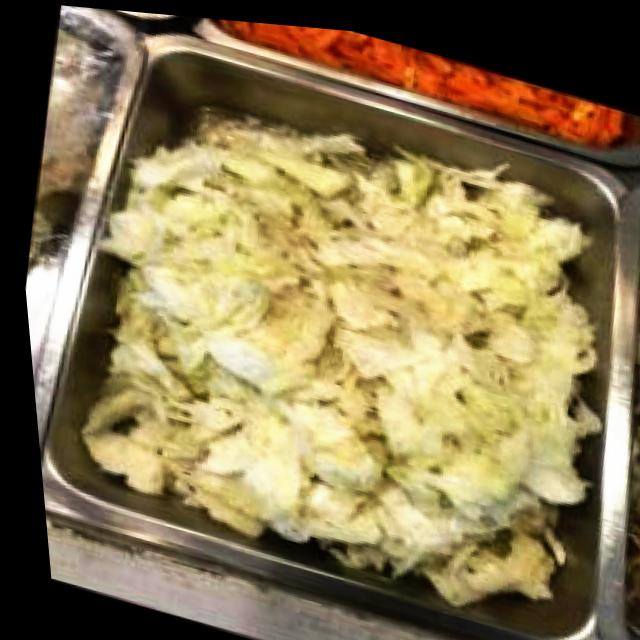carrot_eggs: (210, 19, 625, 153)
chinese_cabbage: (27, 43, 640, 640)
mung_bean_sprouts: (584, 253, 640, 640)
